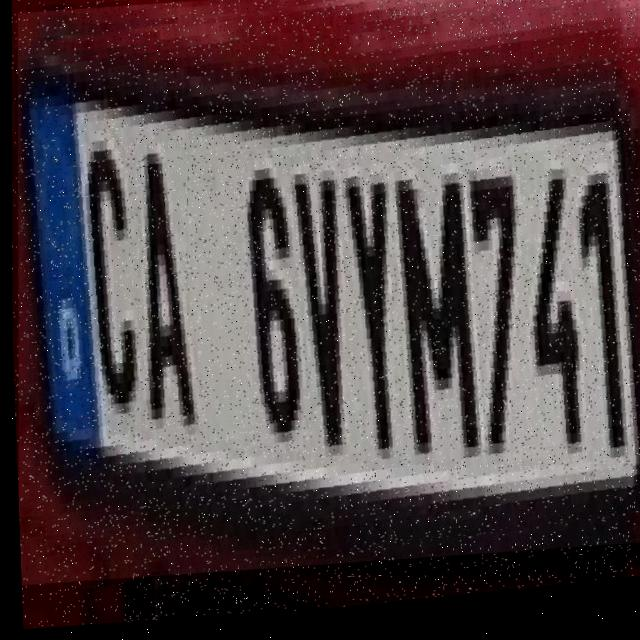LicensePlate: (0, 0, 640, 607)
